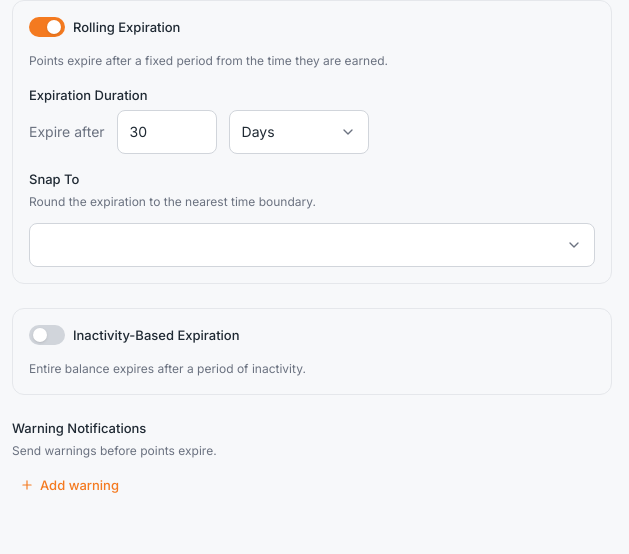
Test: ExpirationTabContent rendering › adds a warning day when Add warning is clicked
Click the button "Add warning" at (70, 485), box [12, 472, 127, 498]
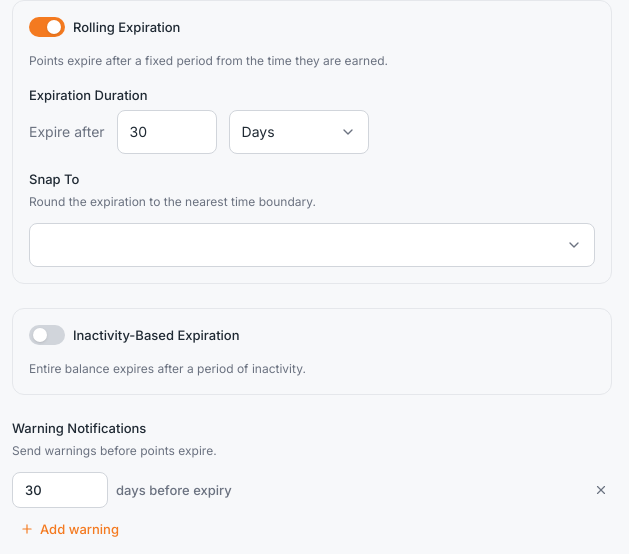
Expected: the text "days before expiry" is shown, [116, 481, 232, 499]
